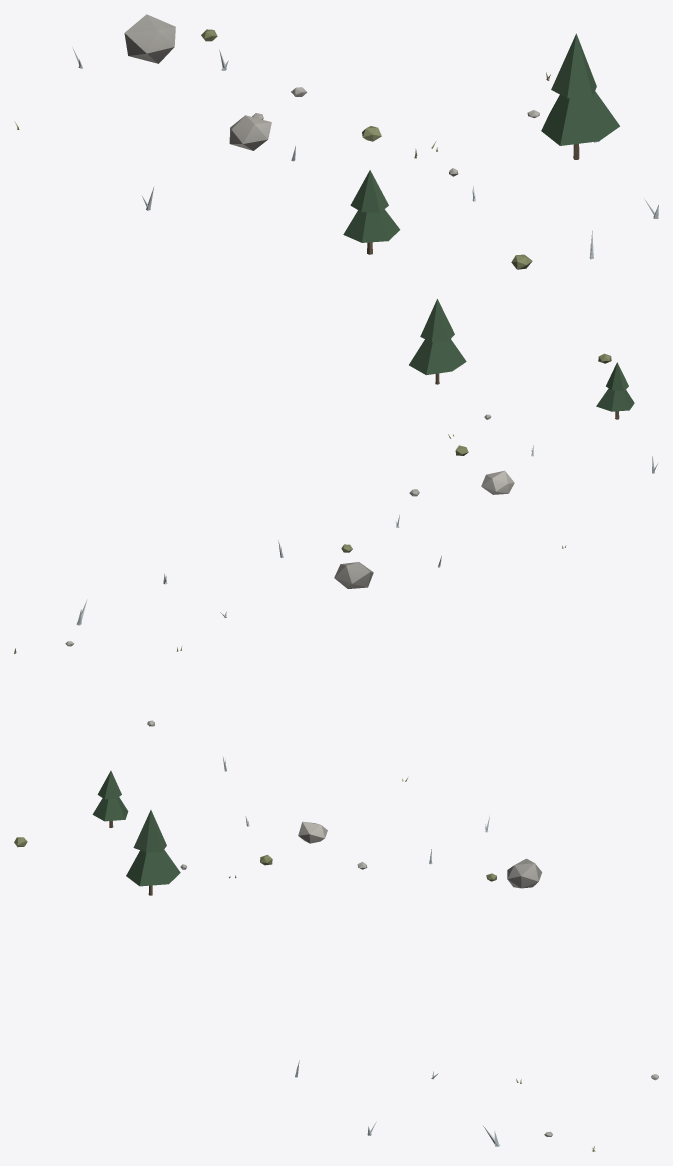
Rendered from coast_land_scatter_c10_23_lod1.glb.
The picture shows the model from 3 angles, top to bottom: view 1: azimuth 30°, elevation 25°; view 2: azimuth 150°, elevation 25°; view 3: azimuth 270°, elevation 25°; orthographic projection. The views are drawn at different scales.
Parts seen in each view (by area): view 1: coast_land_scatter_c10_23_lod1; view 2: coast_land_scatter_c10_23_lod1; view 3: coast_land_scatter_c10_23_lod1.
Boxes of the visible parts, x1,y1,x2,y2 form: coast_land_scatter_c10_23_lod1: (14,14,658,269); coast_land_scatter_c10_23_lod1: (14,299,657,726); coast_land_scatter_c10_23_lod1: (14,756,658,1151).
Bounding box in the file's own units: 73.76 × 38.52 × 89.09.
